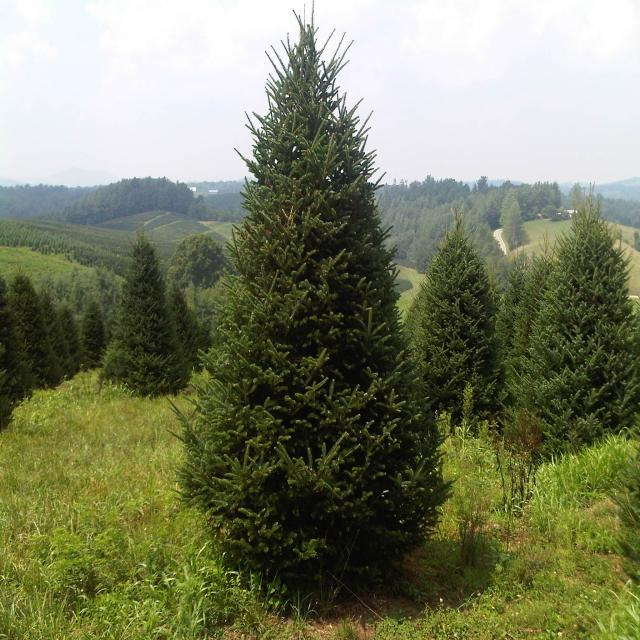Christmas-tree: (202, 19, 421, 592)
